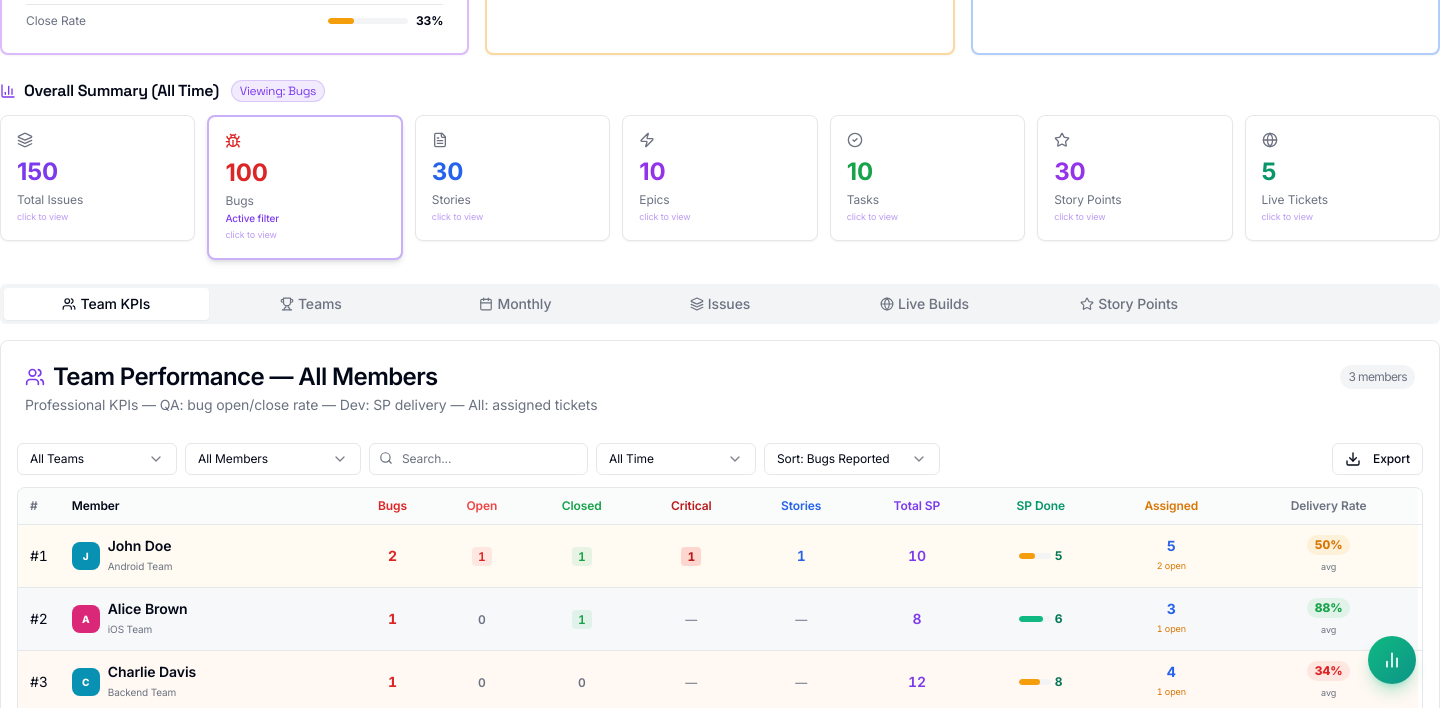
Preservation Property Tests - Non-Filter Functionality › 3.3 - Search Functionality › should clear search when clear button is clicked
The width and height of the screenshot is (1440, 708).
(page scrolled)
Step 1. Press the mouse on the tab "Issues" → (720,304), box [618,288,822,320]
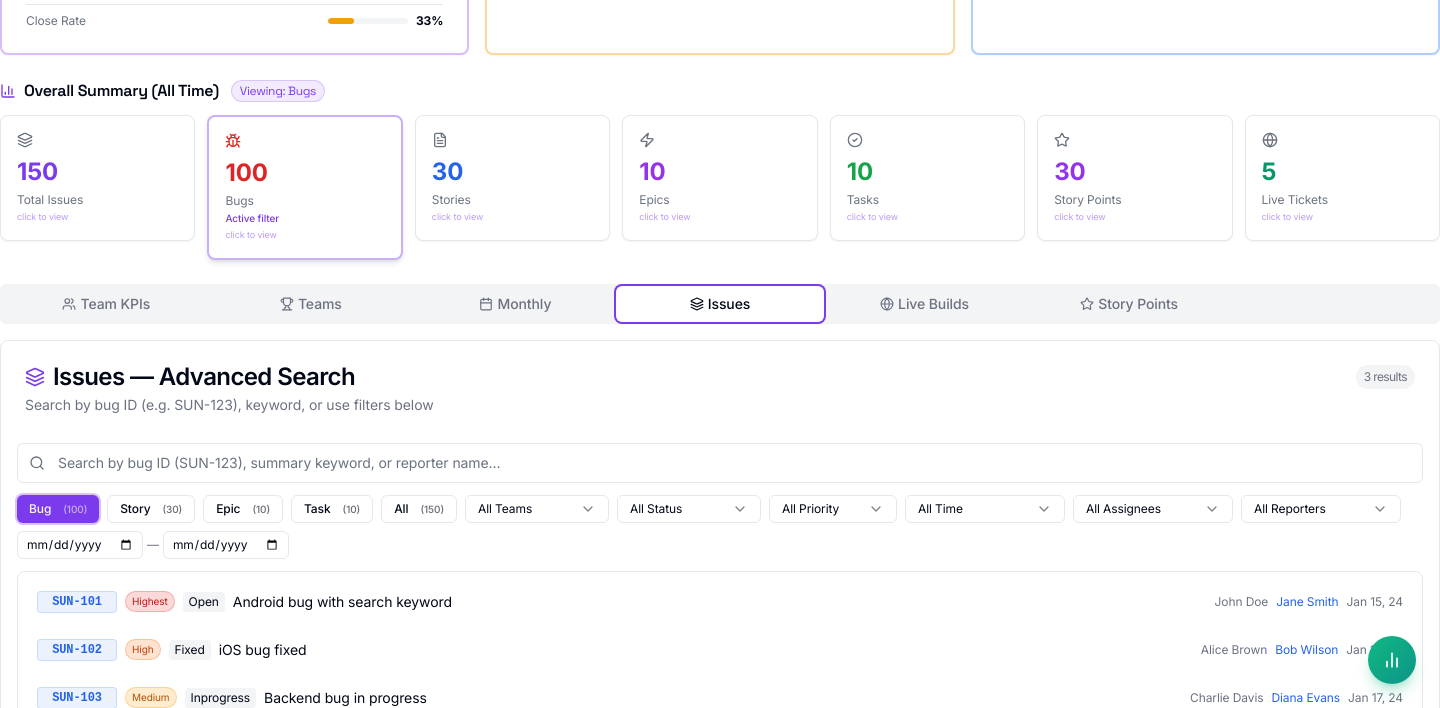
Step 2. Replace the text in the field with placeholder "Search by bug ID" with "test" → (720,462), box [17,442,1423,482]
(page scrolled)
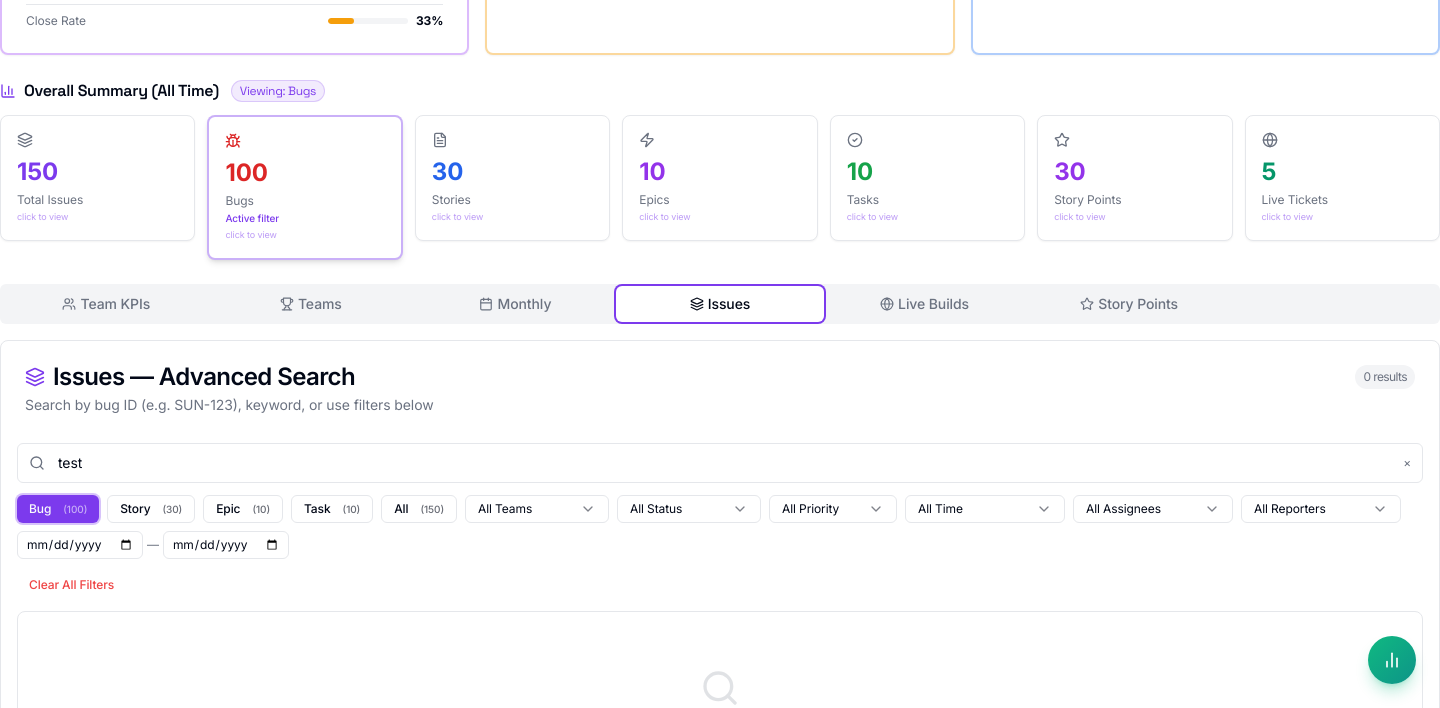
Step 3. Click the button "×" → (1407,462), box [1403,454,1411,470]
(page scrolled)
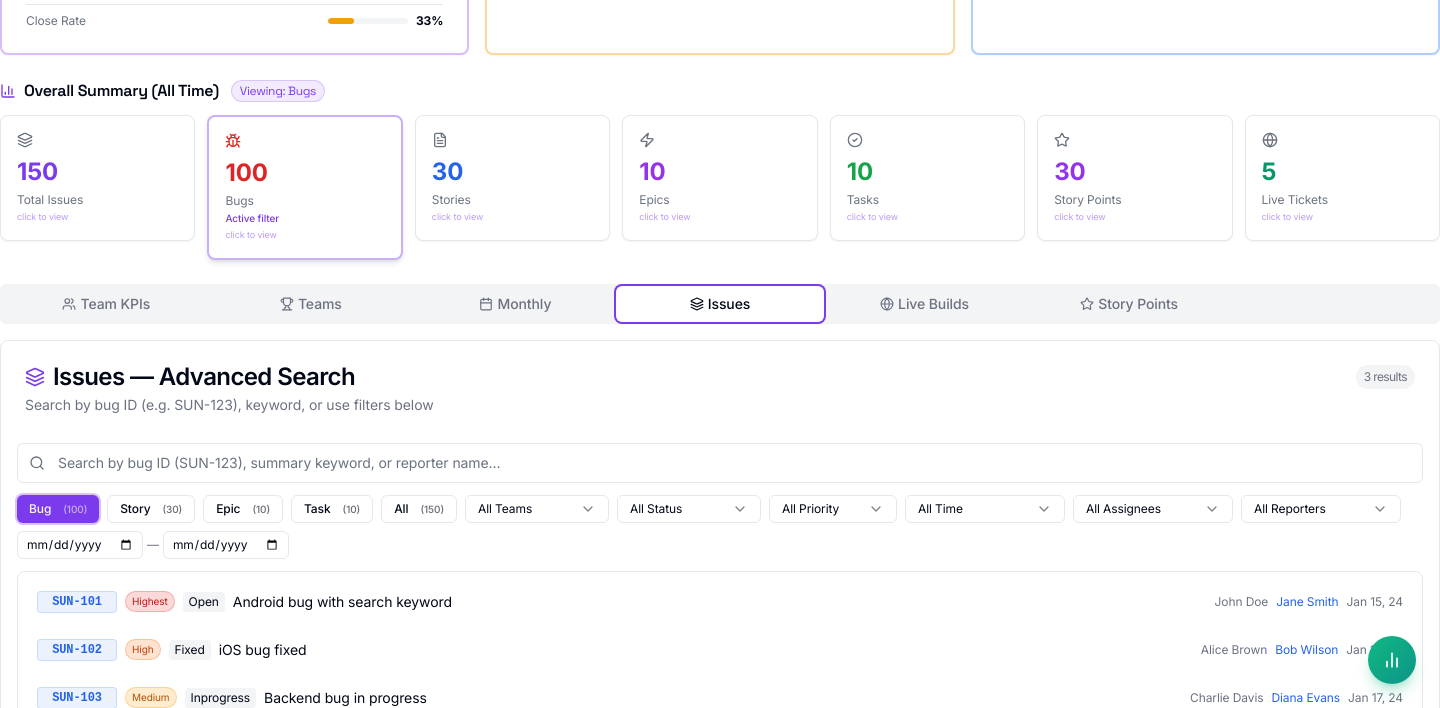
Now the field with placeholder "Search by bug ID" is empty, box [17,442,1423,482]
